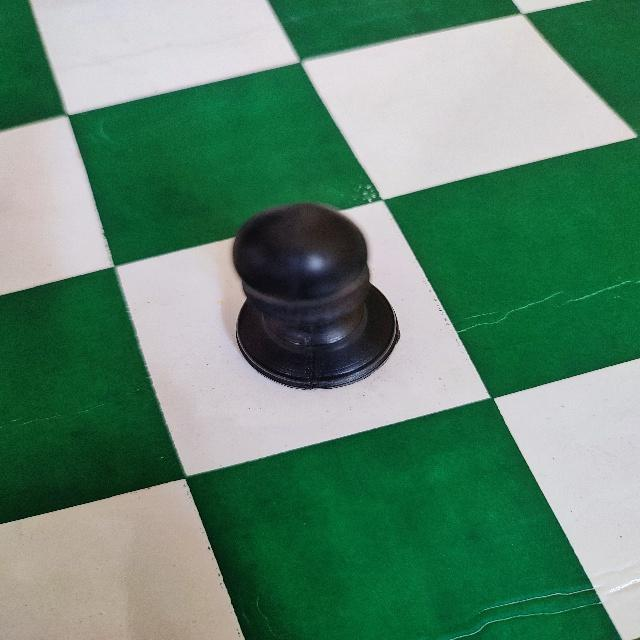Pawn: (228, 200, 400, 393)
